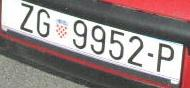-: (146, 51, 154, 59)
2: (128, 35, 143, 67)
5: (109, 29, 125, 62)
9: (73, 19, 88, 51), (91, 24, 106, 56)
G: (36, 8, 51, 38)
P: (157, 42, 174, 73)
Z: (20, 2, 35, 34)
